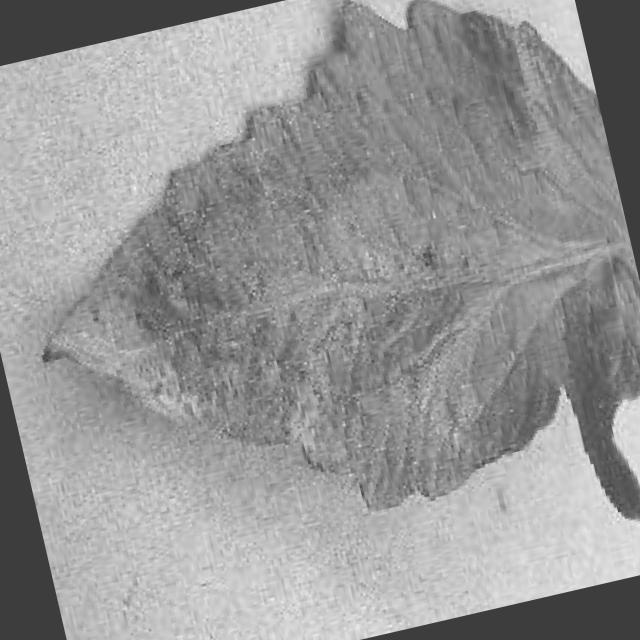bacterial spot: (37, 0, 640, 519)
